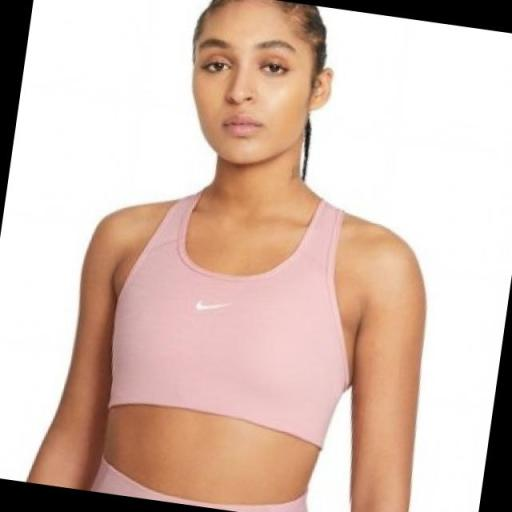Nike: (191, 292, 237, 318)
